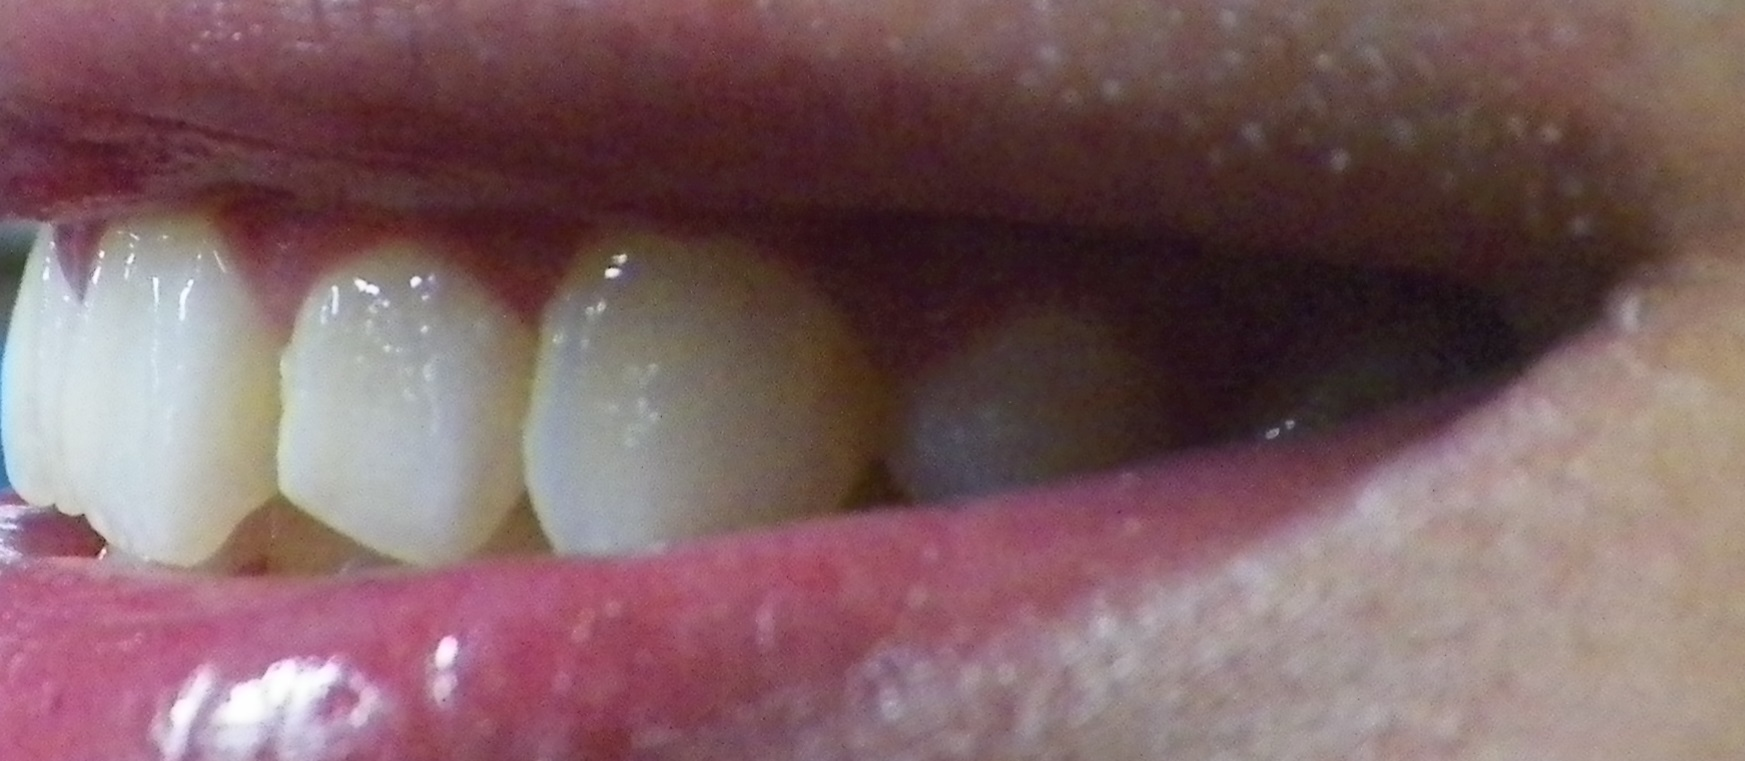boca: (6, 202, 1294, 569)
